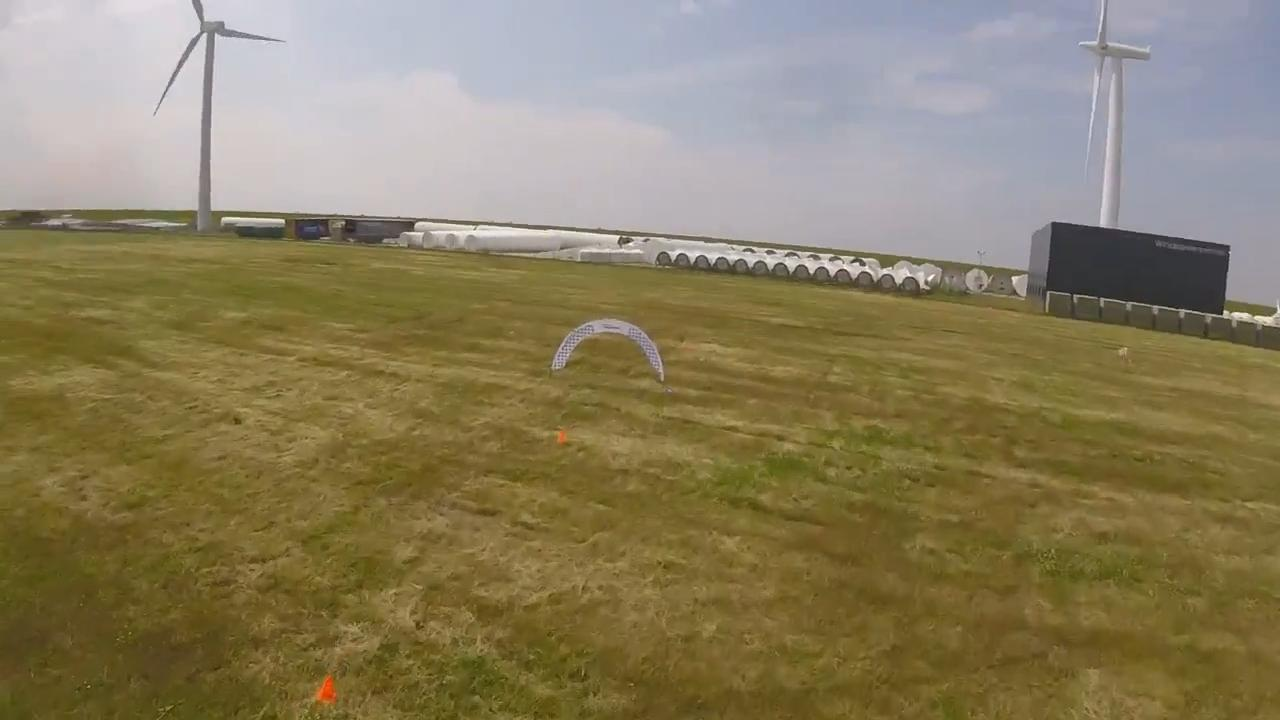gate: (550, 318, 664, 388)
